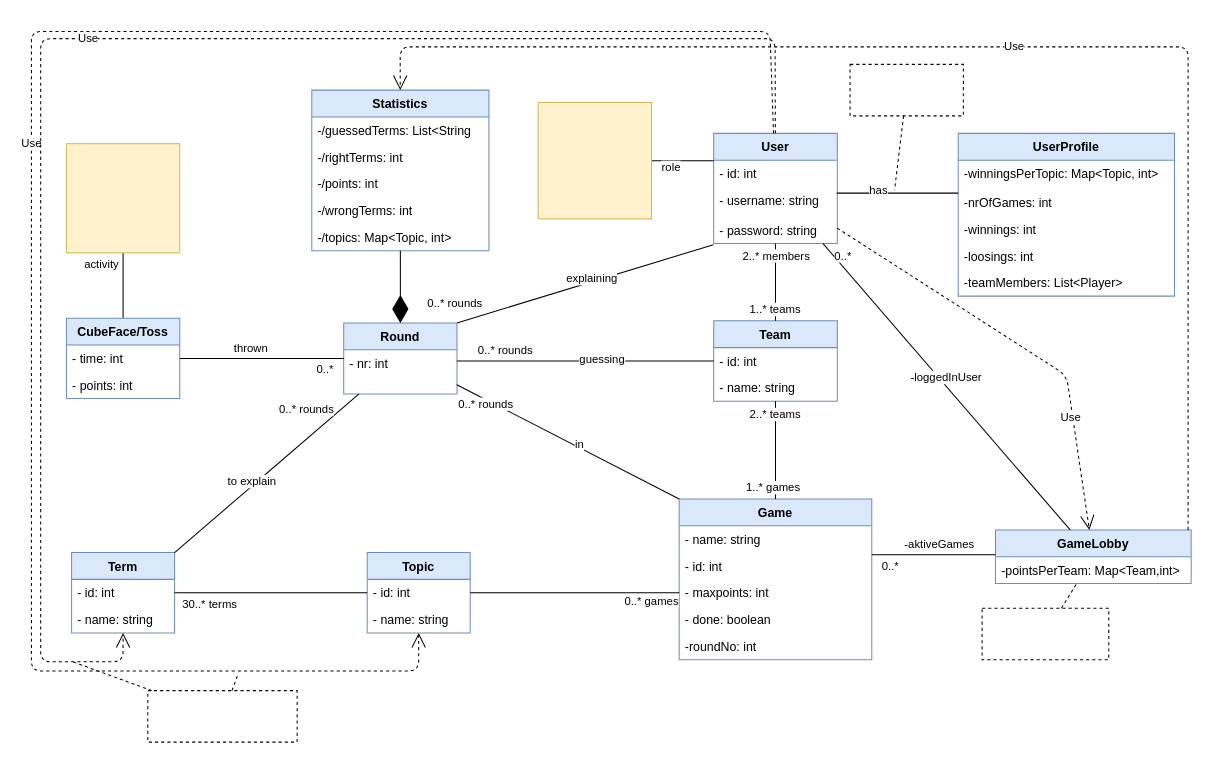
This 1221x760 diagram has some shape labels left out. Here are the shapes that lost their labels. From the top down, the centre of each, then its label:
At [906,89]: "only for User with UserRole Player /PlayerHost".
At [594,160]: "<<enumeration>> UserRole Player PlayerHost GameAdmin SystemAdmin".
At [122,198]: "<<enumeration>> Activity Draw Mime Talk Rhyme".
At [1045,633]: "configuration takes place through PlayerHost".
At [222,716]: "only for User with UserRole GameAdmin or SystemAdmin".
